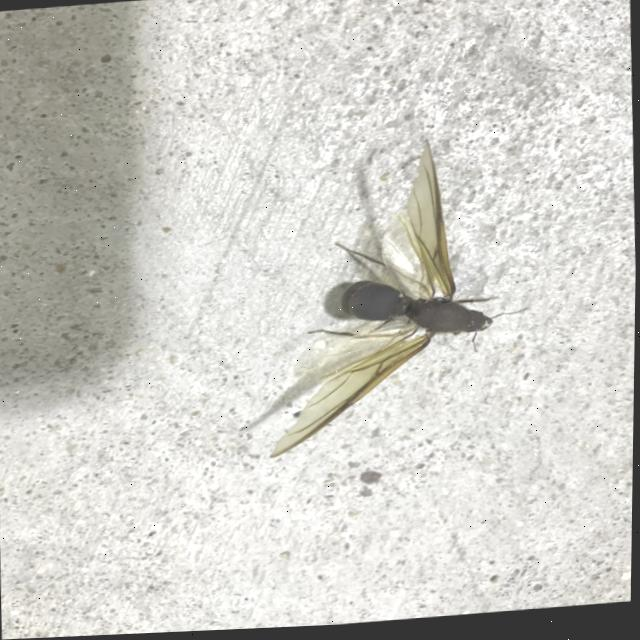Alive-Female-Alate: (257, 135, 540, 464)
